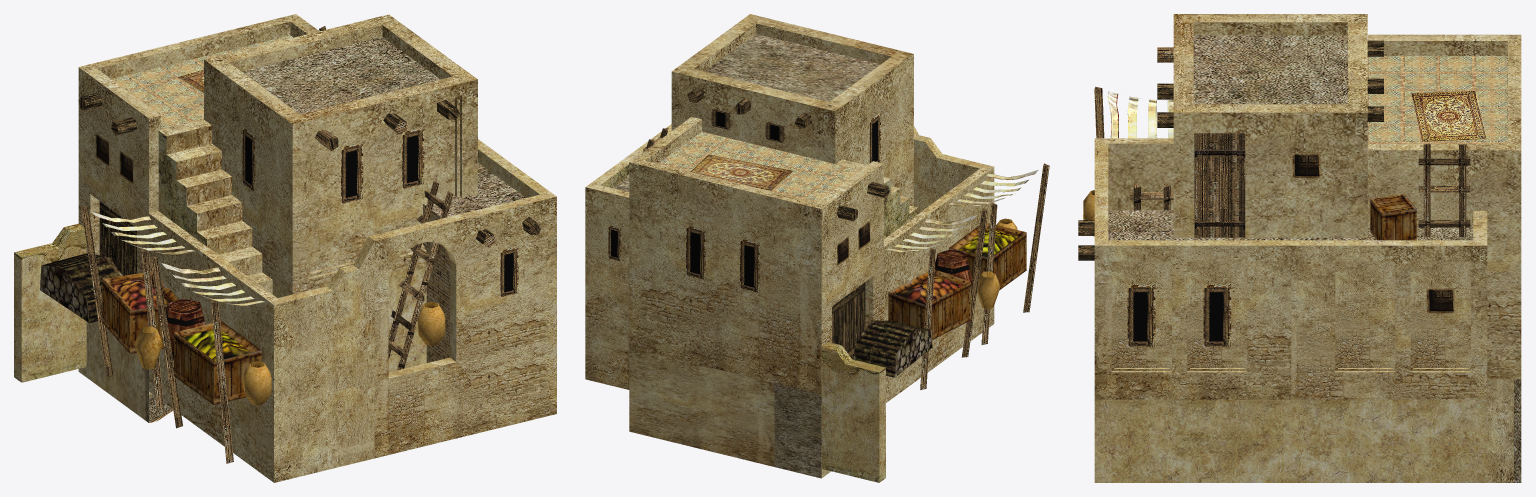
The model's file is pers_house_d.dae.
3 renders of one model, left to right at view 1: azimuth 30°, elevation 25°; view 2: azimuth 150°, elevation 25°; view 3: azimuth 270°, elevation 25°, orthographic. The views are drawn at different scales.
Visible parts, largest first — view 1: HouseD; view 2: HouseD; view 3: HouseD.
Boxes of the visible parts, x1,y1,x2,y2 form: HouseD: [14, 14, 556, 482]; HouseD: [585, 14, 1049, 482]; HouseD: [1078, 14, 1521, 482].
Size of the model in its own units: 13.47 by 13.41 by 12.76.
